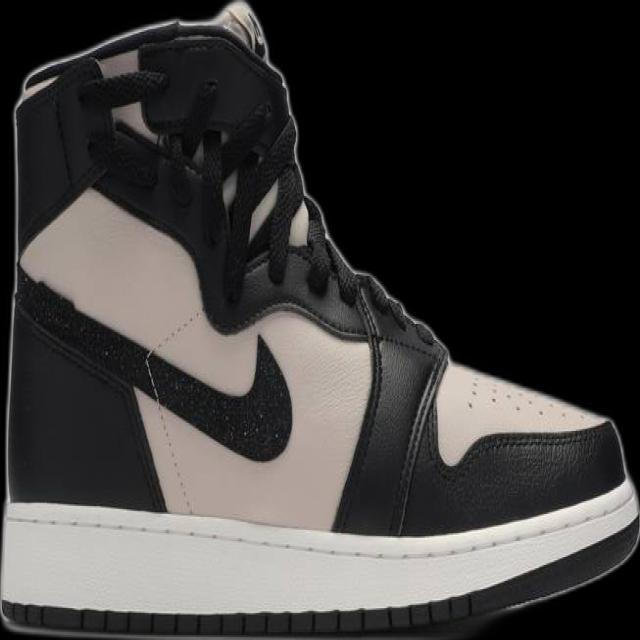J1_ShoeLogo: (0, 0, 639, 639)
J1_StitchPattern: (0, 487, 638, 634), (13, 266, 296, 463), (91, 62, 310, 296), (155, 107, 378, 330), (0, 596, 474, 636), (208, 114, 307, 300), (387, 355, 449, 536), (140, 346, 198, 516), (460, 367, 600, 429), (264, 160, 304, 284), (217, 0, 270, 60)
